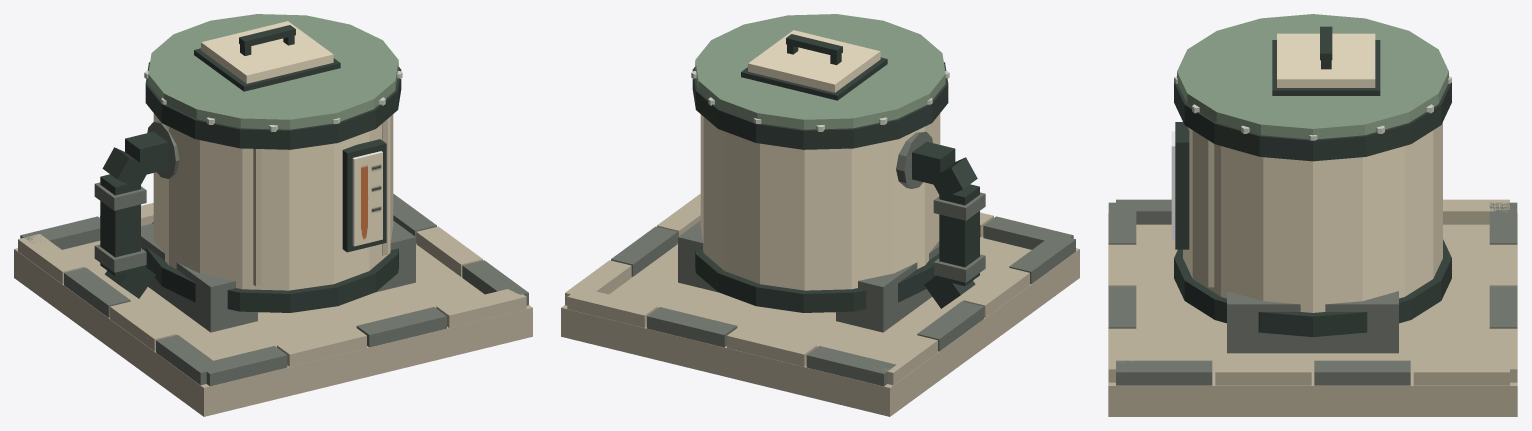
Rendered from destination-quality.glb.
The picture shows the model from 3 angles, left to right: view 1: azimuth 30°, elevation 25°; view 2: azimuth 150°, elevation 25°; view 3: azimuth 270°, elevation 25°; orthographic projection. The views are drawn at different scales.
Visible parts, largest first — view 1: Mesh_destination-quality_FacilityDetailPaint, Mesh_TransferHatch_FacilityDetailPaint; view 2: Mesh_destination-quality_FacilityDetailPaint, Mesh_TransferHatch_FacilityDetailPaint; view 3: Mesh_destination-quality_FacilityDetailPaint, Mesh_TransferHatch_FacilityDetailPaint.
Boxes of the visible parts, <box> form: Mesh_destination-quality_FacilityDetailPaint: <box>14,14,532,416</box>; Mesh_TransferHatch_FacilityDetailPaint: <box>194,21,340,91</box>; Mesh_destination-quality_FacilityDetailPaint: <box>561,14,1079,416</box>; Mesh_TransferHatch_FacilityDetailPaint: <box>741,30,887,100</box>; Mesh_destination-quality_FacilityDetailPaint: <box>1108,14,1517,416</box>; Mesh_TransferHatch_FacilityDetailPaint: <box>1272,26,1380,95</box>.
Size of the model in its own units: 0.8333 by 0.6525 by 0.8333.
2 materials, 2 textured.
